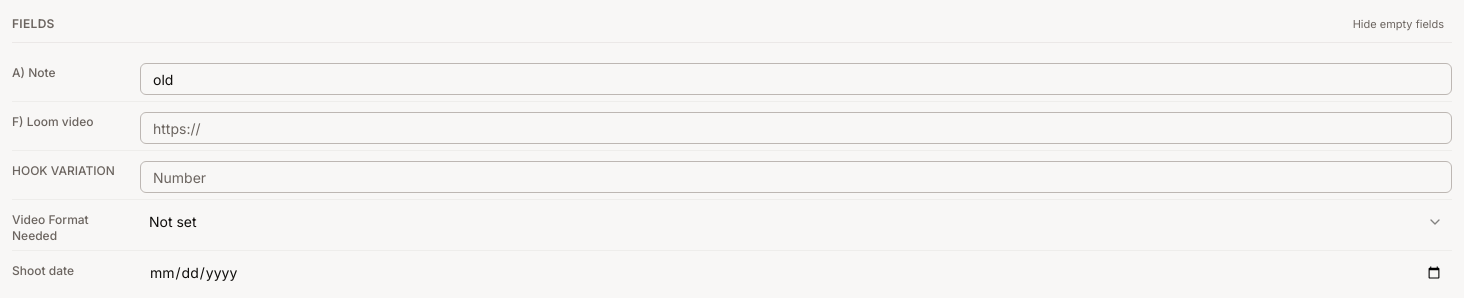
Scenario: CustomFieldsSection › puts the old value back and says why when the database refuses
The width and height of the screenshot is (1464, 298).
Replace the text in the field named "A) Note" with "nope". click: [796, 79]
box: [140,63,1452,95]
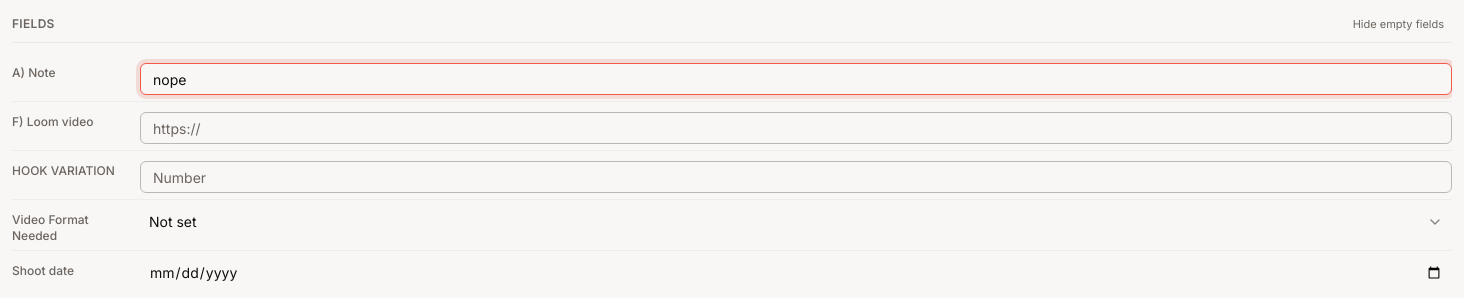
Leave the field named "A) Note", box [140,63,1452,95]
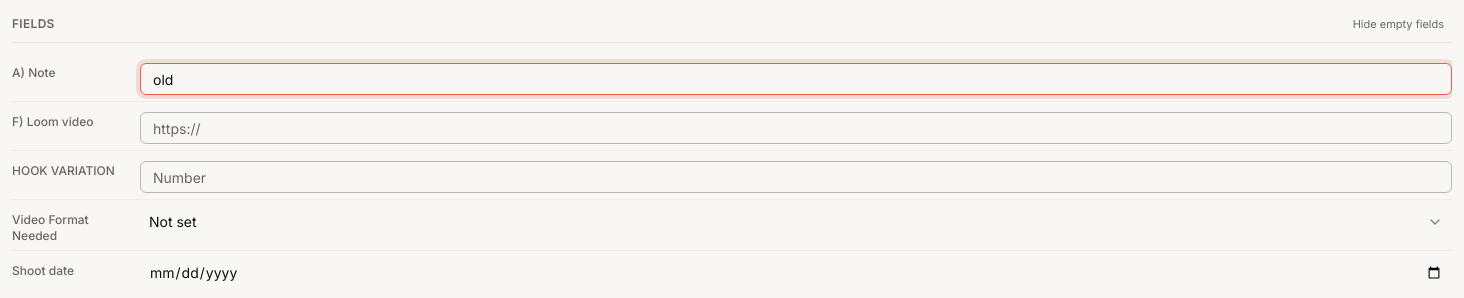
Check: the field named "A) Note" holds "old", box [140,63,1452,95]
